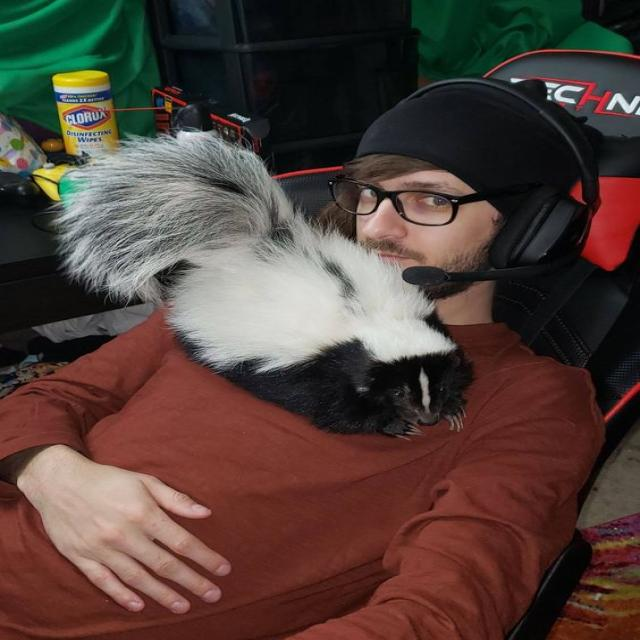Skunk: (39, 106, 469, 458)
